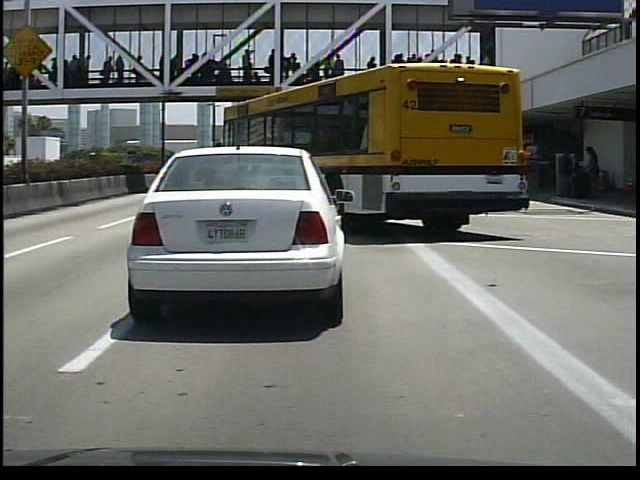person: (555, 142, 583, 203), (580, 144, 608, 205)
